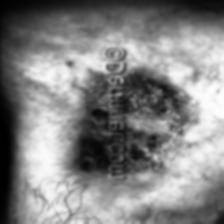Non-Cancerous Skin Condition: (77, 69, 191, 180)
